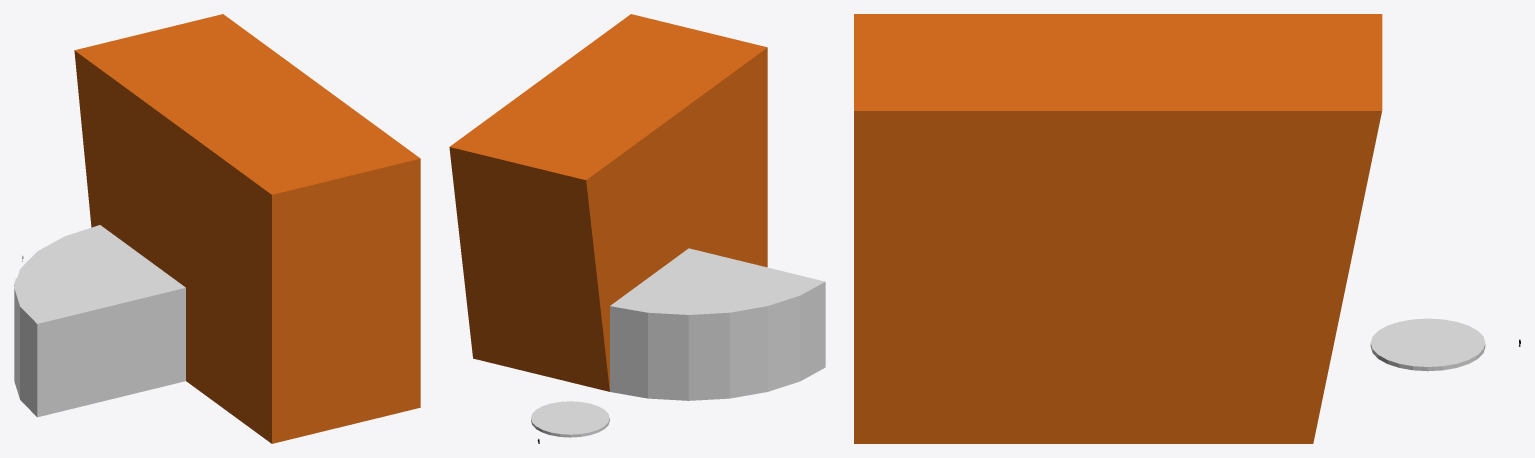
The picture shows the model from 3 angles, left to right: view 1: azimuth 30°, elevation 25°; view 2: azimuth 150°, elevation 25°; view 3: azimuth 270°, elevation 25°; orthographic projection. The views are drawn at different scales.
Visible parts, largest first — view 1: 崖2, 施設; view 2: 崖2, 施設, 遠景射撃場; view 3: 崖2, 遠景射撃場.
Part boxes in pixels (bbox=[...]): 崖2: bbox=[74, 14, 420, 443]; 施設: bbox=[14, 225, 185, 417]; 崖2: bbox=[449, 14, 767, 391]; 施設: bbox=[610, 248, 825, 400]; 遠景射撃場: bbox=[531, 401, 609, 437]; 崖2: bbox=[854, 14, 1382, 443]; 遠景射撃場: bbox=[1370, 318, 1485, 371].
Size of the model in its own units: 100 by 80 by 145.
